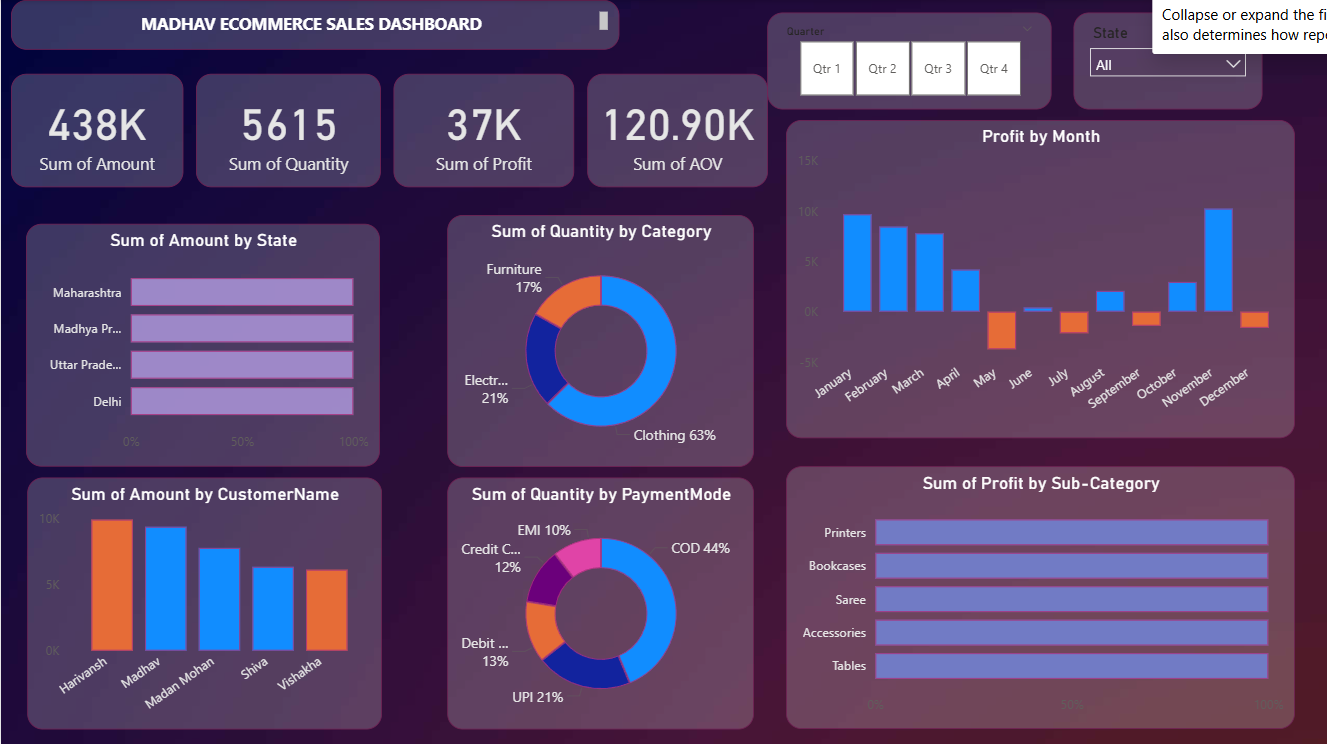

What the dashboard file says about the page in this screenshot:
{"tool":"powerbi","page":{"name":"Page 1","canvas":[1280,720],"ordinal":0},"visuals":[{"type":"textbox","box":[9.6,0,587.3,48],"z":0},{"type":"columnChart","title":"Profit by Month","fields":{"Category":["Orders csv.Order Date.Variation.Date Hierarchy.Month"],"Y":["Sum(Details csv.Profit)"]},"box":[757.5,115.3,491.3,307.4],"z":1000},{"type":"hundredPercentStackedBarChart","fields":{"Category":["Details csv.Sub-Category"],"Y":["Sum(Details csv.Profit)"]},"box":[757.5,450.1,491.3,253.9],"z":2000},{"type":"donutChart","fields":{"Category":["Details csv.Category"],"Y":["Sum(Details csv.Quantity)"]},"box":[430.9,207.2,296.4,242.9],"z":3000},{"type":"donutChart","fields":{"Category":["Details csv.PaymentMode"],"Y":["Sum(Details csv.Quantity)"]},"box":[430.9,461.1,296.4,242.9],"z":4000},{"type":"card","fields":{"Values":["Sum(Details csv.Amount)"]},"box":[9.6,71.4,166,109.8],"z":5000},{"type":"card","fields":{"Values":["Sum(Details csv.Quantity)"]},"box":[188,71.4,178.4,109.8],"z":6000},{"type":"card","fields":{"Values":["Sum(Details csv.Profit)"]},"box":[378.7,71.4,174.3,109.8],"z":7000},{"type":"card","fields":{"Values":["Sum(Details csv.AOV)"]},"box":[565.4,71.4,174.3,109.8],"z":8000},{"type":"hundredPercentStackedBarChart","fields":{"Y":["Sum(Details csv.Amount)"],"Category":["Orders csv.State"]},"box":[24.7,215.4,341.7,234.6],"z":9000},{"type":"columnChart","fields":{"Category":["Orders csv.CustomerName"],"Y":["Sum(Details csv.Amount)"]},"box":[25,461,342,243],"z":9001},{"type":"slicer","fields":{"Values":["Orders csv.Order Date.Variation.Date Hierarchy.Quarter"]},"box":[739.6,12.3,274.4,93.3],"z":9002},{"type":"slicer","fields":{"Values":["Orders csv.State"]},"box":[1034.7,12.3,182.5,93.3],"z":9003}]}

Visuals, with their boxes in screenshot pixels (x1, y1, x2, y2), scaled from the page's 1280x720 canvas onto the 1327x744 screenshot:
textbox: 10, 0, 619, 50
"Profit by Month" columnChart: 785, 119, 1295, 437
hundredPercentStackedBarChart - Details csv.Sub-Category x Sum(Details csv.Profit): 785, 465, 1295, 727
donutChart - Details csv.Category x Sum(Details csv.Quantity): 447, 214, 754, 465
donutChart - Details csv.PaymentMode x Sum(Details csv.Quantity): 447, 476, 754, 727
card - Sum(Details csv.Amount): 10, 74, 182, 187
card - Sum(Details csv.Quantity): 195, 74, 380, 187
card - Sum(Details csv.Profit): 393, 74, 573, 187
card - Sum(Details csv.AOV): 586, 74, 767, 187
hundredPercentStackedBarChart - Sum(Details csv.Amount) x Orders csv.State: 26, 223, 380, 465
columnChart - Orders csv.CustomerName x Sum(Details csv.Amount): 26, 476, 380, 727
slicer - Orders csv.Order Date.Variation.Date Hierarchy.Quarter: 767, 13, 1051, 109
slicer - Orders csv.State: 1073, 13, 1262, 109
